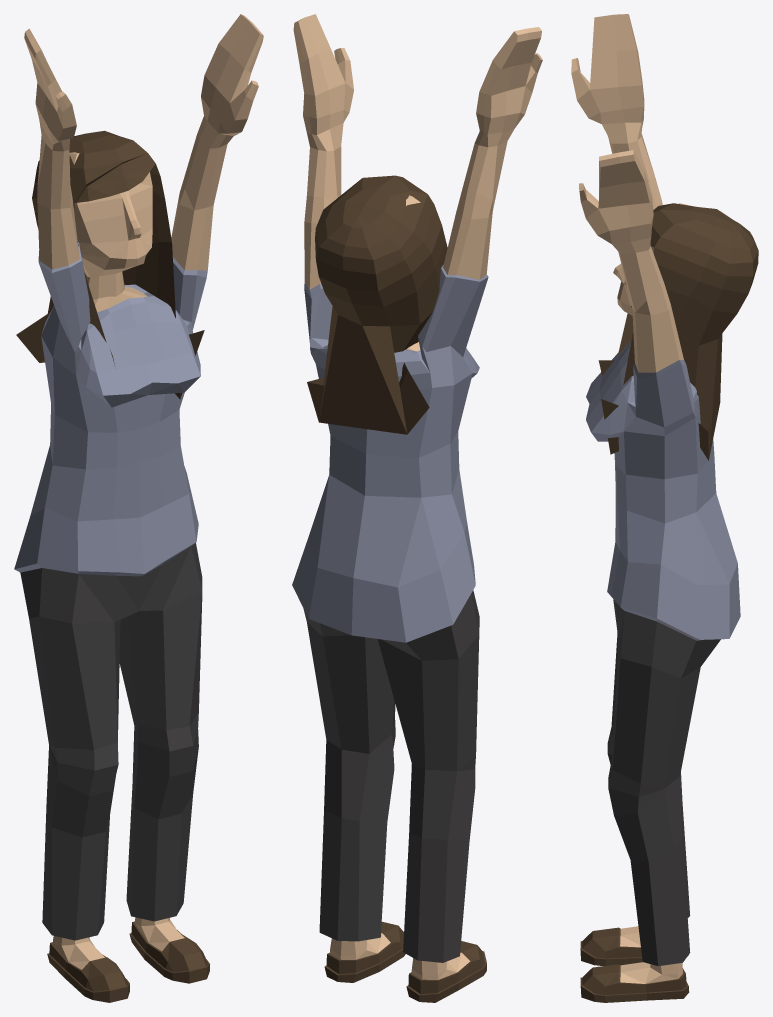
The model's file is Female_Crowd_BothArmsUp.glb.
3 renders of one model, left to right at view 1: azimuth 30°, elevation 25°; view 2: azimuth 150°, elevation 25°; view 3: azimuth 270°, elevation 25°, orthographic. The views are drawn at different scales.
Visible parts, largest first — view 1: Female_Crowd_BothArmsUp; view 2: Female_Crowd_BothArmsUp; view 3: Female_Crowd_BothArmsUp.
Boxes of the visible parts, x1,y1,x2,y2 form: Female_Crowd_BothArmsUp: (14,14,263,1002); Female_Crowd_BothArmsUp: (292,14,542,1002); Female_Crowd_BothArmsUp: (571,14,758,1002).
Bounding box in the file's own units: 0.4894 × 1.97 × 0.367.
